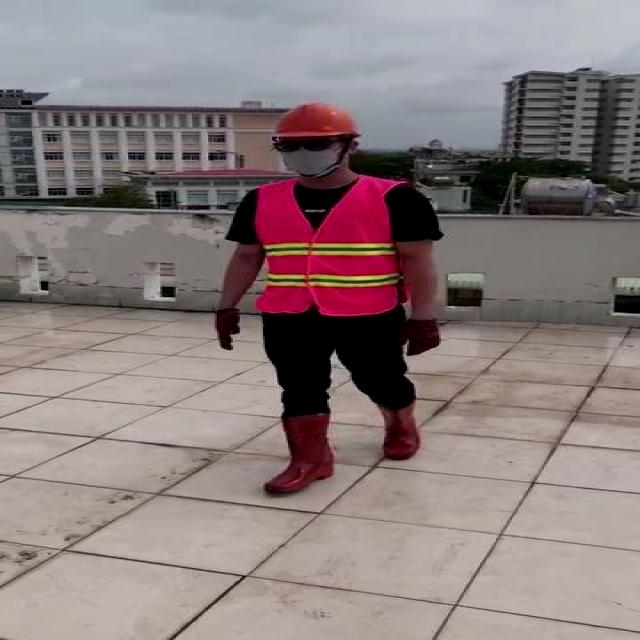boots: (265, 412, 334, 494), (380, 398, 418, 461)
face_mask: (278, 132, 346, 175)
glasses: (270, 131, 342, 156)
hand_glove: (396, 320, 446, 356), (217, 309, 240, 351)
head_helmet: (269, 101, 360, 139)
person: (207, 102, 460, 500)
vest: (254, 179, 398, 315)
